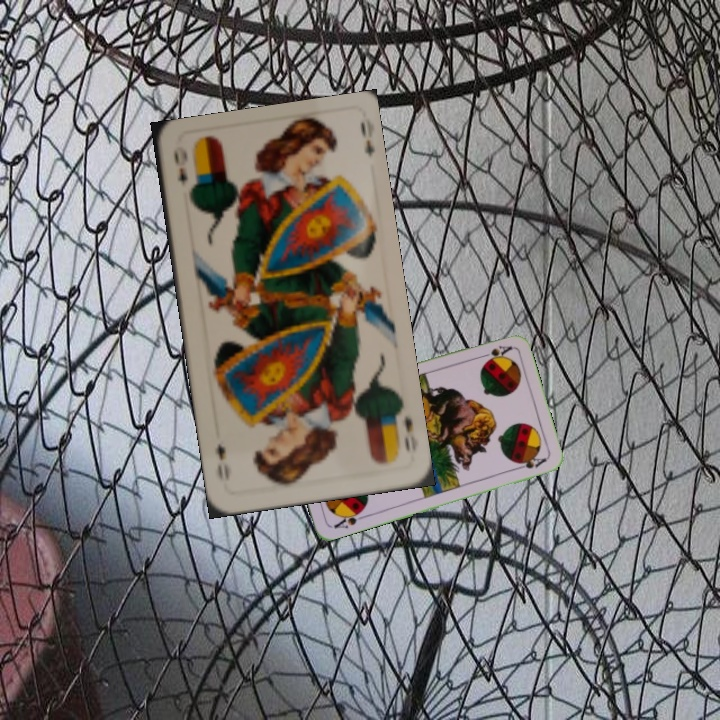EO: (390, 403, 415, 460), (169, 143, 190, 190)
SA: (330, 506, 368, 531), (474, 341, 515, 362)
